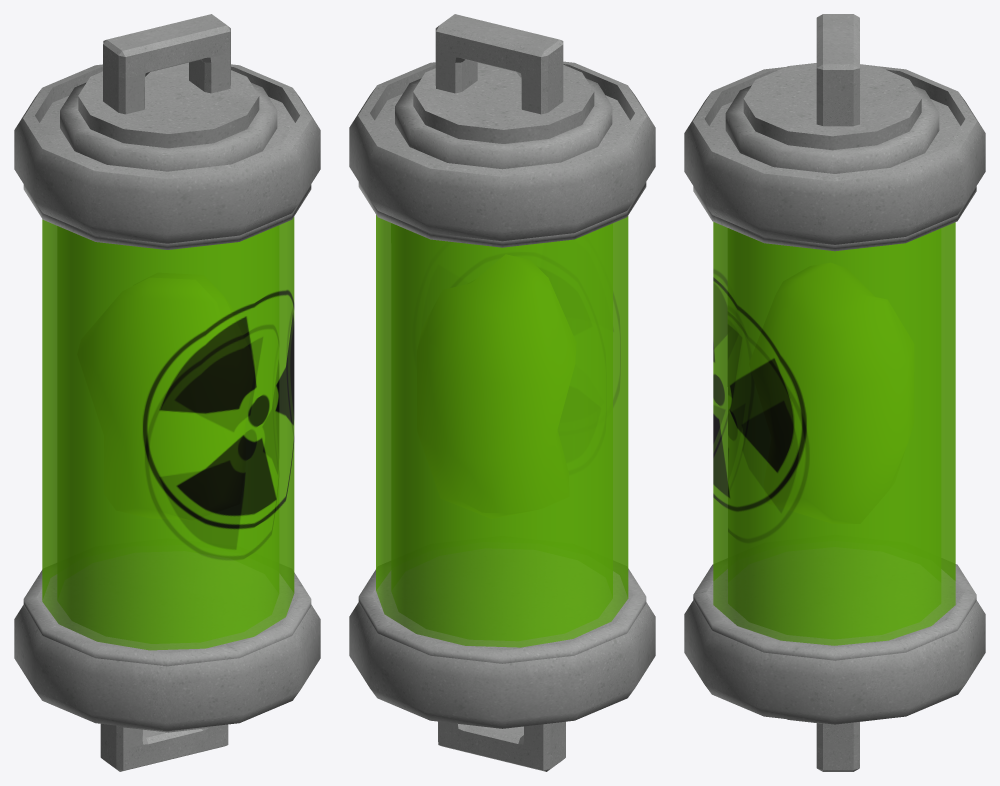
Rendered from PickUp_ToxicContainer_v3.fbx.
3 views of the same model, side by side, from view 1: azimuth 30°, elevation 25°; view 2: azimuth 150°, elevation 25°; view 3: azimuth 270°, elevation 25° (orthographic).
Visible parts, largest first — view 1: glass, polySurface14, pasted__polySurface14, polySurface10, pasted__polySurface10; view 2: glass, polySurface14, pasted__polySurface14, polySurface10, pasted__polySurface10; view 3: glass, polySurface14, pasted__polySurface14, polySurface10, pasted__polySurface10.
Part boxes in pixels (x1=…): glass: x1=42, y1=217, x2=294, y2=650; polySurface14: x1=14, y1=62, x2=320, y2=249; pasted__polySurface14: x1=14, y1=569, x2=320, y2=732; polySurface10: x1=103, y1=14, x2=230, y2=114; pasted__polySurface10: x1=100, y1=724, x2=228, y2=771; glass: x1=376, y1=215, x2=628, y2=647; polySurface14: x1=349, y1=61, x2=655, y2=247; pasted__polySurface14: x1=349, y1=568, x2=655, y2=728; polySurface10: x1=435, y1=14, x2=563, y2=114; pasted__polySurface10: x1=438, y1=721, x2=565, y2=771; glass: x1=713, y1=222, x2=955, y2=645; polySurface14: x1=684, y1=63, x2=985, y2=251; pasted__polySurface14: x1=684, y1=564, x2=985, y2=724; polySurface10: x1=816, y1=14, x2=859, y2=126; pasted__polySurface10: x1=816, y1=722, x2=859, y2=771.
Bounding box in the file's own units: 0.4787 × 1.24 × 0.4787.
